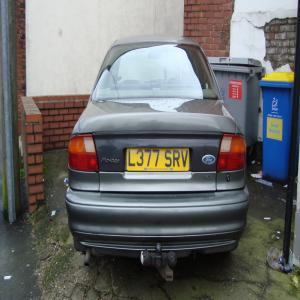Vehicle-registration-plate: (123, 144, 199, 185)
